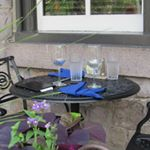other: (45, 42, 71, 88), (84, 42, 105, 94)
